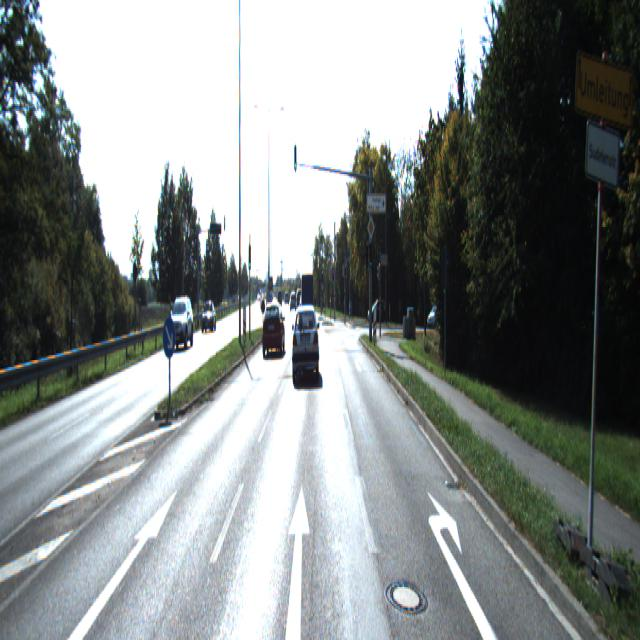Car: (292, 309, 319, 380), (168, 296, 194, 349), (262, 302, 285, 357), (301, 271, 315, 331), (201, 301, 216, 334)
